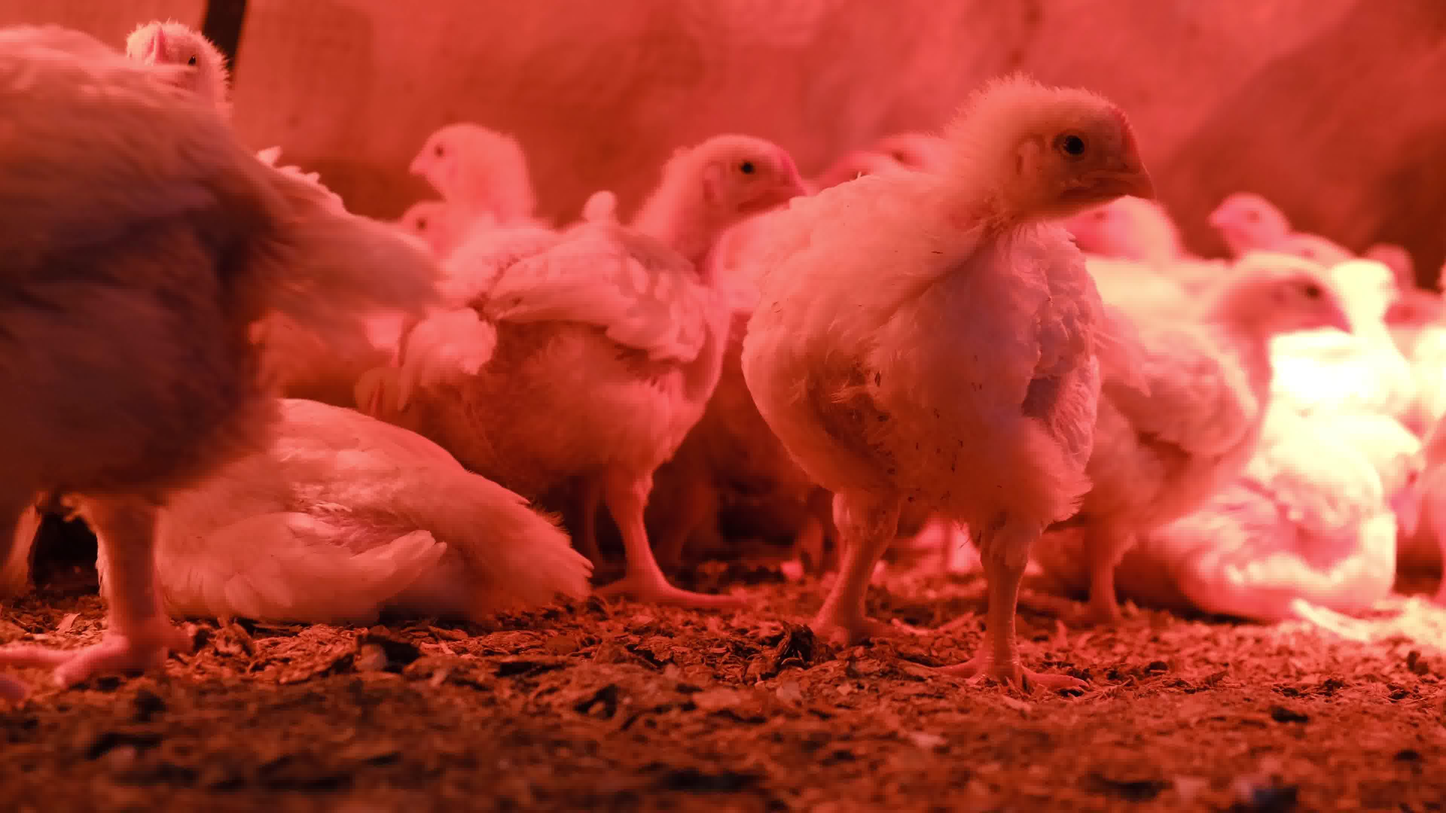AbNormal: (97, 398, 597, 621), (1085, 416, 1433, 617)
Normal: (0, 25, 445, 693), (742, 81, 1160, 693), (385, 136, 810, 610), (1015, 256, 1354, 629), (1284, 262, 1409, 413), (405, 124, 537, 259), (119, 21, 231, 130), (1207, 192, 1301, 264), (384, 200, 462, 273)
